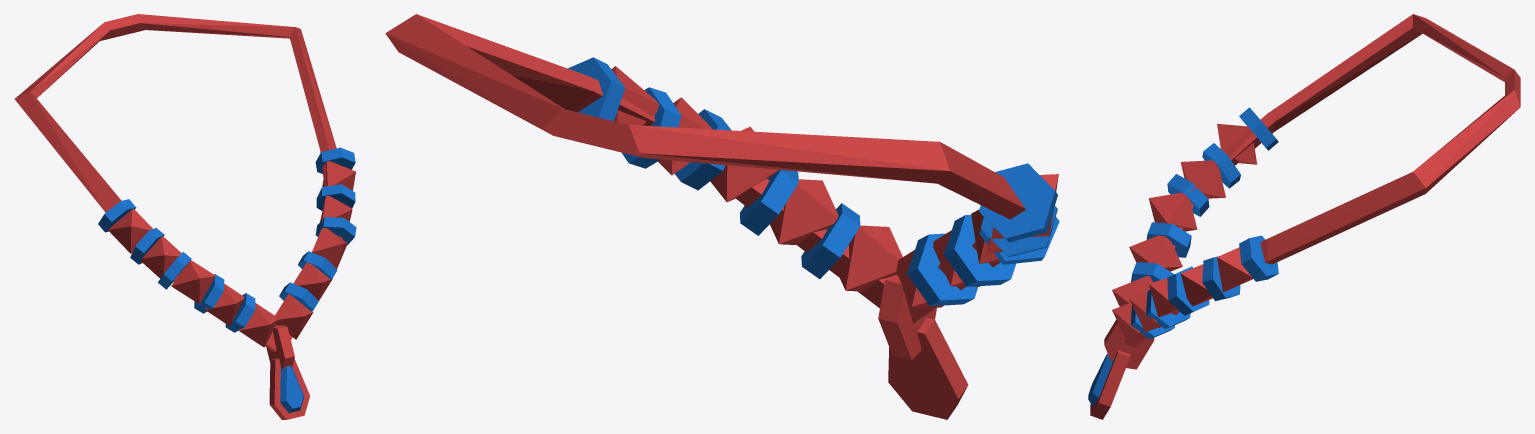
File: SM_necklace_5.fbx
The picture shows the model from 3 angles, left to right: view 1: azimuth 30°, elevation 25°; view 2: azimuth 150°, elevation 25°; view 3: azimuth 270°, elevation 25°; orthographic projection. The views are drawn at different scales.
Parts seen in each view (by area): view 1: Symmetry_13; view 2: Symmetry_13; view 3: Symmetry_13.
Part boxes in pixels (x1,y1,x2,y2): Symmetry_13: [14, 14, 356, 419]; Symmetry_13: [385, 14, 1059, 419]; Symmetry_13: [1088, 14, 1520, 419].
Bounding box in the file's own units: 22 × 20.22 × 23.65.
